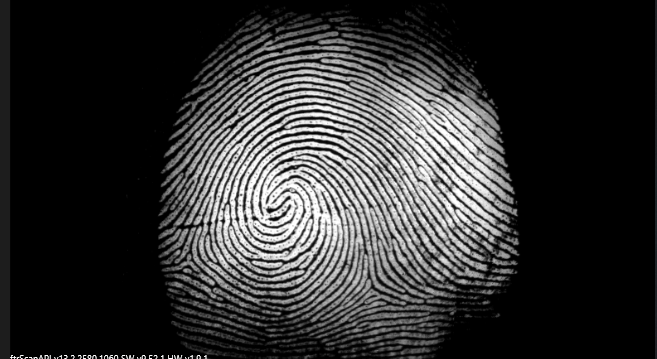deltas: (166, 226, 213, 283), (349, 263, 400, 311)
nucleo: (242, 169, 315, 233)
